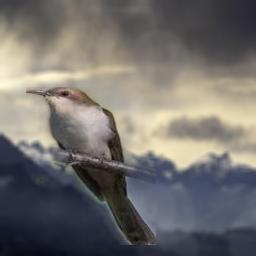Cuckoo: (26, 87, 156, 245)
